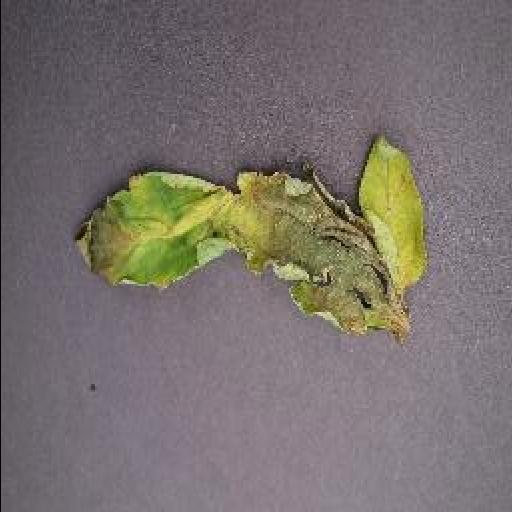disease_tomato: (72, 135, 434, 341)
